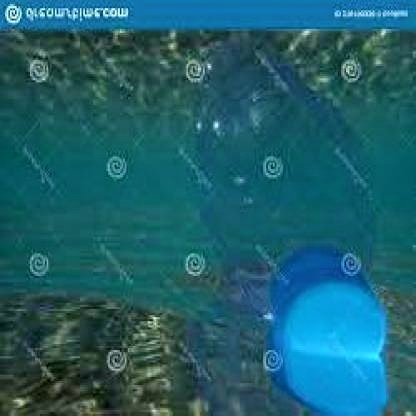pbottle: (150, 31, 398, 354)
